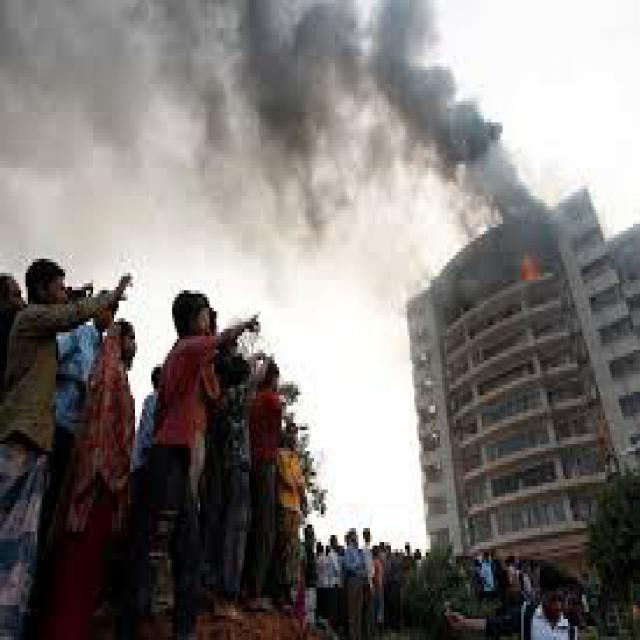smoke: (179, 3, 570, 252)
